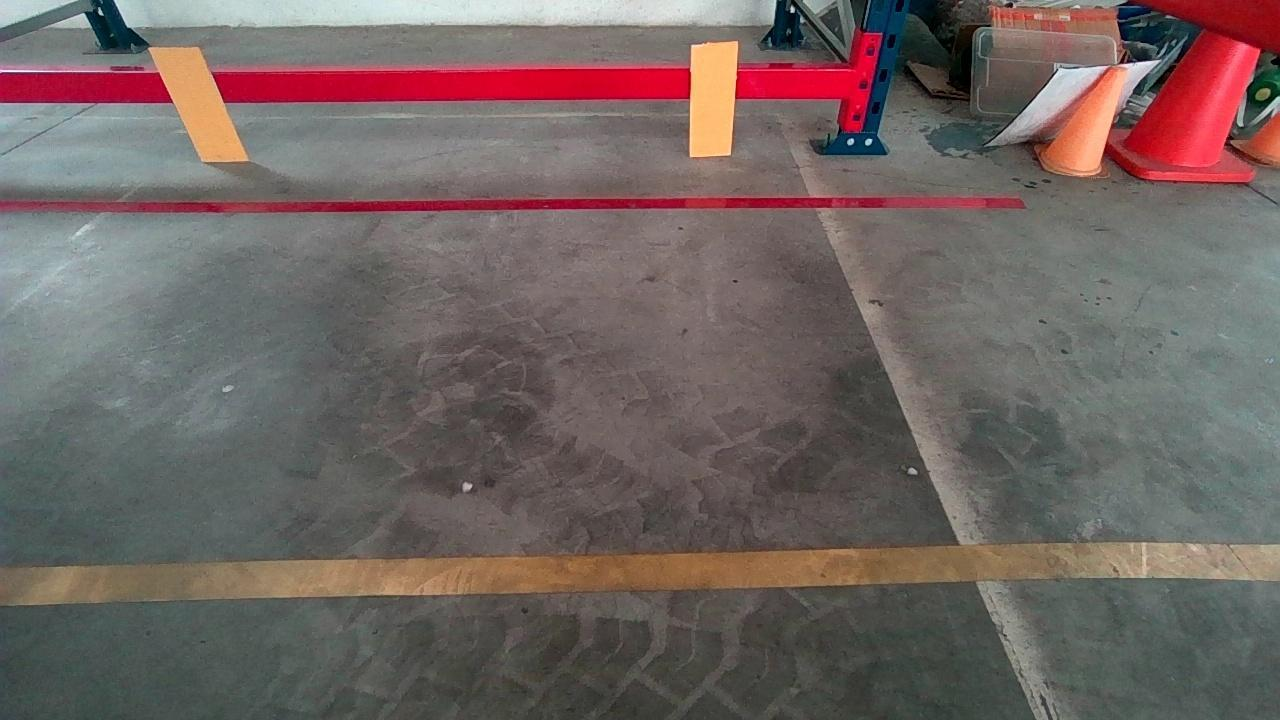h_rack: (6, 65, 861, 107)
orange_strip: (149, 47, 248, 159), (690, 42, 737, 155)
red_line: (0, 196, 1020, 217)
yellow_line: (0, 538, 1275, 606)
